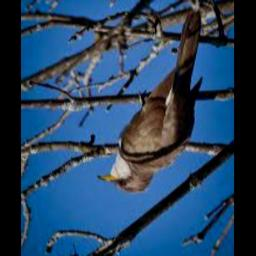Cuckoo: (99, 10, 204, 193)
